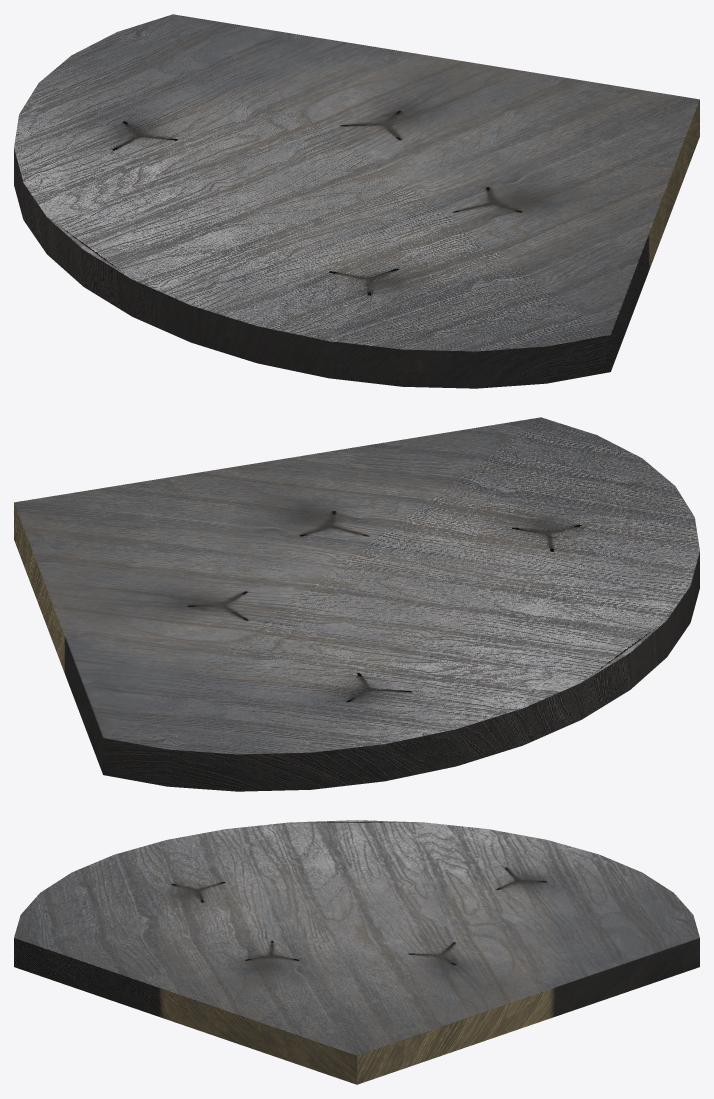
Rendered from Zone1Podium (2.08046, 0, 0).glb.
3 renders of one model, top to bottom at view 1: azimuth 30°, elevation 25°; view 2: azimuth 150°, elevation 25°; view 3: azimuth 270°, elevation 25°, orthographic. The views are drawn at different scales.
Parts seen in each view (by area): view 1: Zone 1_Podium.001; view 2: Zone 1_Podium.001; view 3: Zone 1_Podium.001.
Boxes of the visible parts, x1,y1,x2,y2 form: Zone 1_Podium.001: (14, 14, 699, 388); Zone 1_Podium.001: (14, 417, 699, 791); Zone 1_Podium.001: (14, 820, 699, 1084).
Bounding box in the file's own units: 5.2 × 0.3 × 6.4.
1 material, 1 textured.
